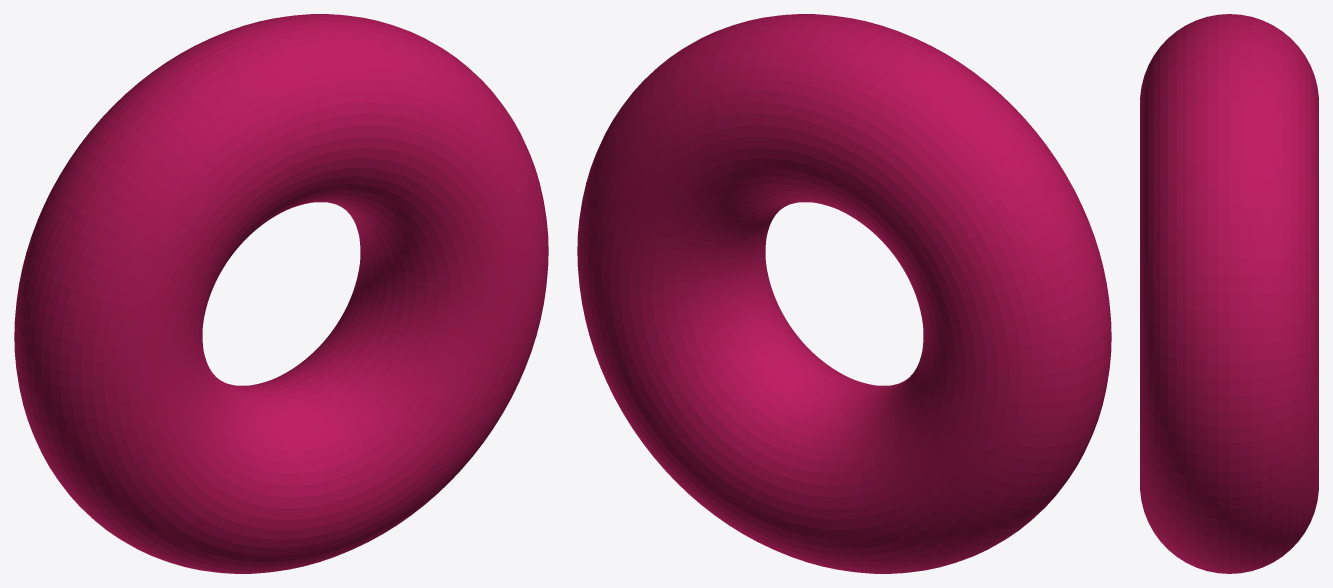
The picture shows the model from 3 angles, left to right: view 1: azimuth 30°, elevation 25°; view 2: azimuth 150°, elevation 25°; view 3: azimuth 270°, elevation 25°; orthographic projection. The views are drawn at different scales.
Parts seen in each view (by area): view 1: world; view 2: world; view 3: world.
Boxes of the visible parts, left/top/right/bottom form: world: left=14, top=14, right=548, bottom=573; world: left=577, top=14, right=1111, bottom=573; world: left=1140, top=14, right=1318, bottom=573.
Size of the model in its own units: 30.4 by 30.4 by 9.71.
